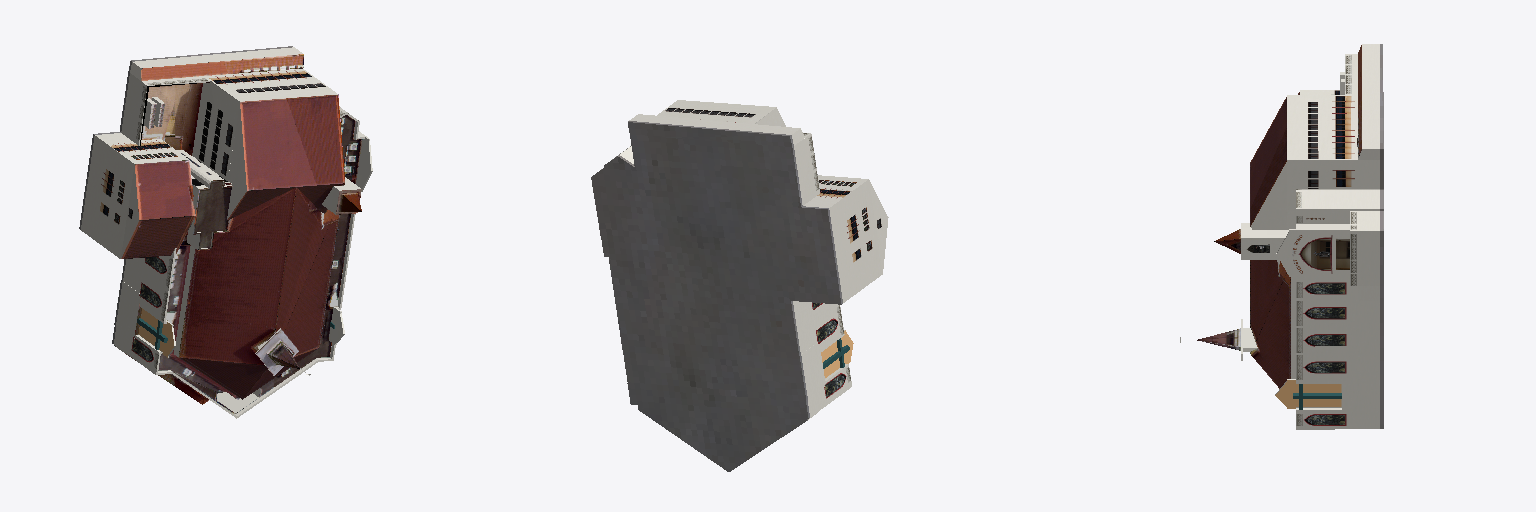
3 renders of one model, left to right at view 1: azimuth 30°, elevation 25°; view 2: azimuth 150°, elevation 25°; view 3: azimuth 270°, elevation 25°, orthographic.
Visible parts, largest first — view 1: polygon.013; view 2: polygon.013; view 3: polygon.013.
Boxes of the visible parts, x1=… form: polygon.013: x1=79, y1=46, x2=372, y2=418; polygon.013: x1=591, y1=100, x2=888, y2=471; polygon.013: x1=1180, y1=44, x2=1383, y2=429.
Bounding box in the file's own units: 44.52 × 59.67 × 31.95.
1 materials, 1 textured.